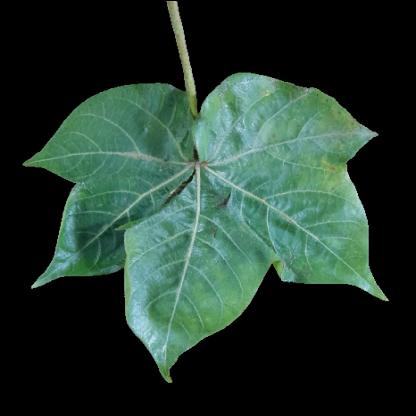curl_stage1: (318, 157, 356, 193)
healthy: (76, 120, 274, 258), (275, 184, 359, 276), (131, 260, 233, 326), (218, 83, 296, 119)
